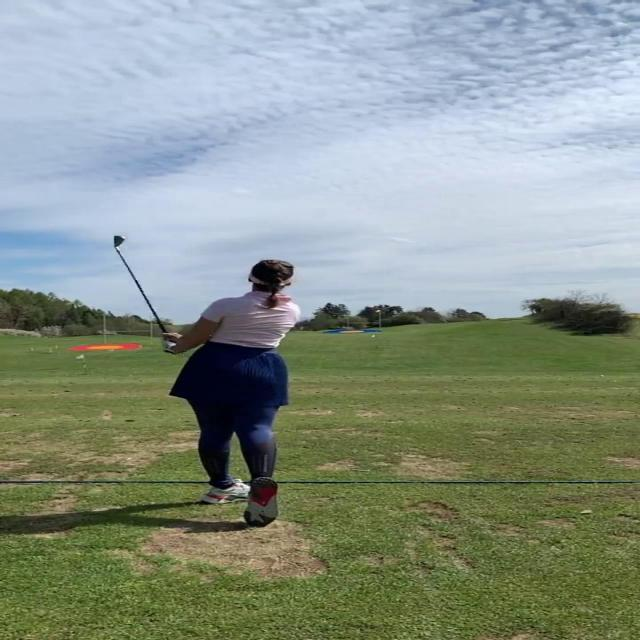ClubHandle: (113, 236, 166, 332)
ClubHead: (113, 236, 125, 245)
